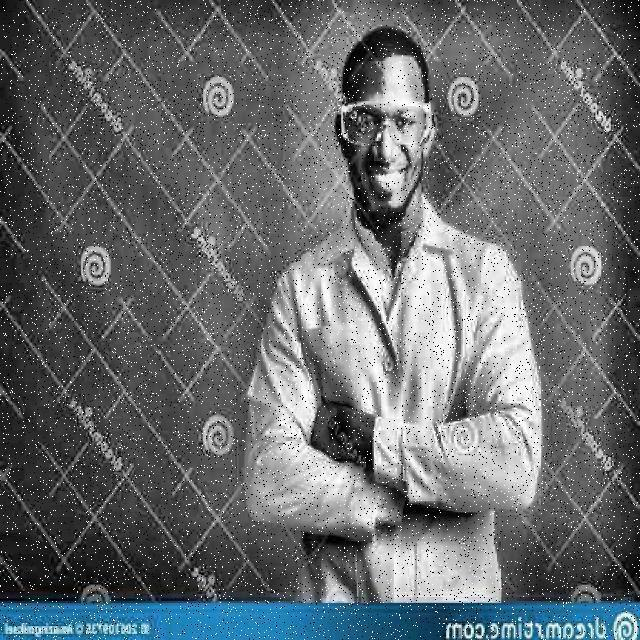Goggles: (326, 91, 451, 157)
